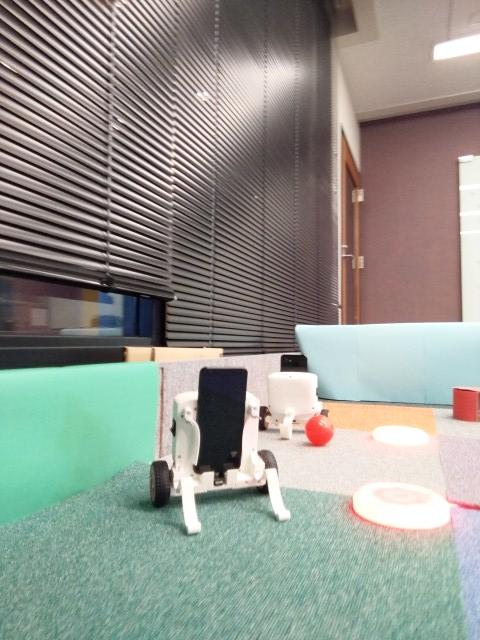br: (252, 352, 335, 442)
f: (150, 365, 286, 539)
r: (349, 478, 454, 531), (368, 422, 433, 449)
